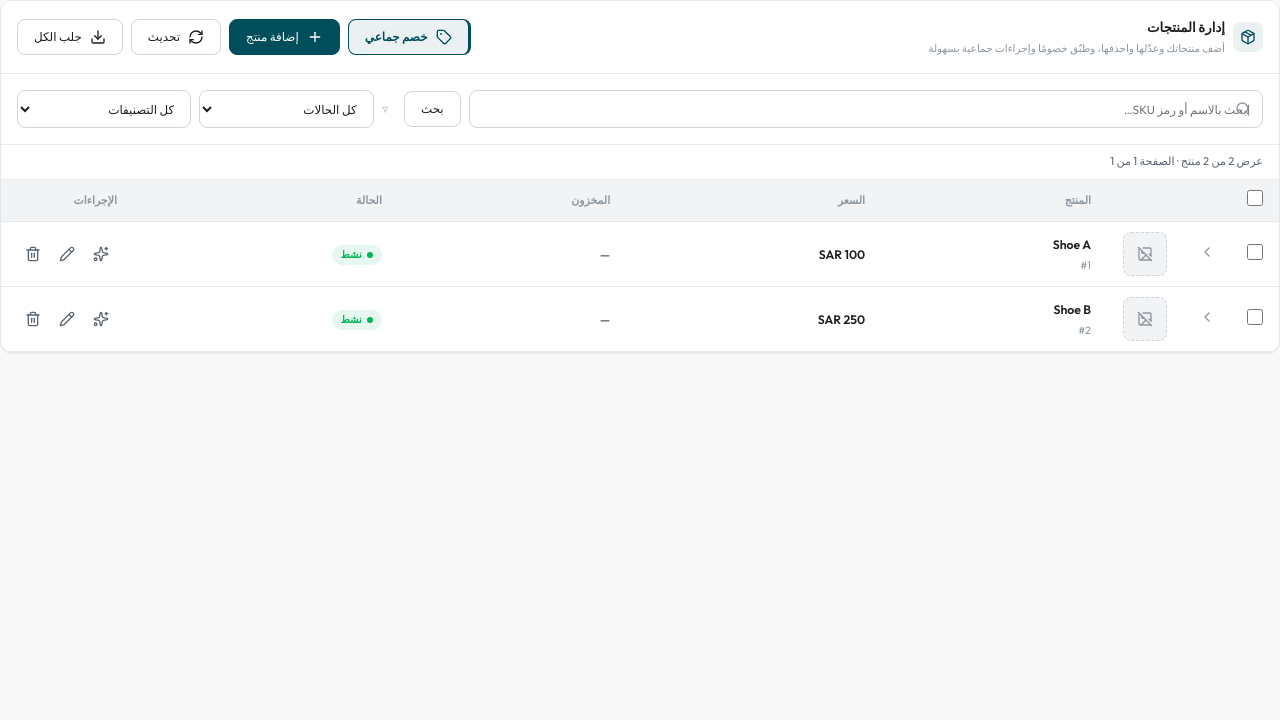
Scenario: Bulk product actions › previews a price change, then submits it for the chosen ids
Click the checkbox named "تحديد Shoe A". click: [1255, 252]
box: [1247,244,1263,260]
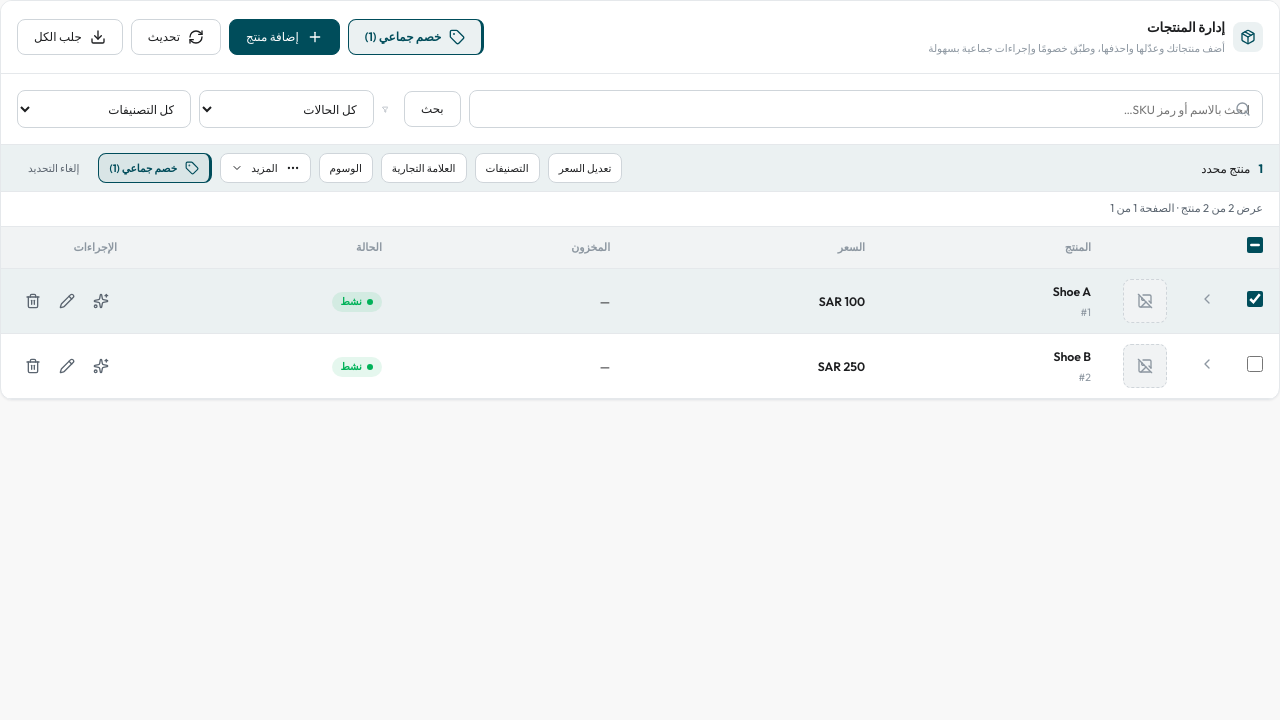
Click the checkbox named "تحديد Shoe B". click: [1255, 364]
box: [1247,356,1263,372]
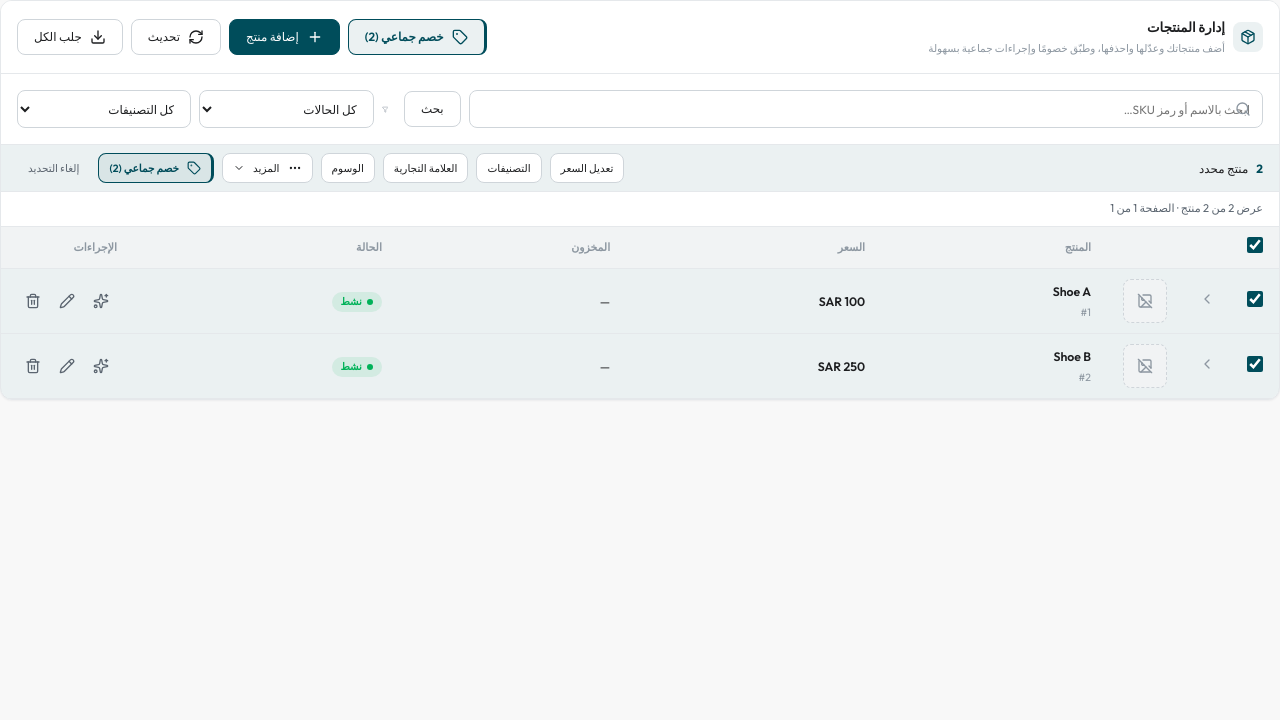
Click the button "تعديل السعر". click: [587, 168]
box: [550,153,624,183]
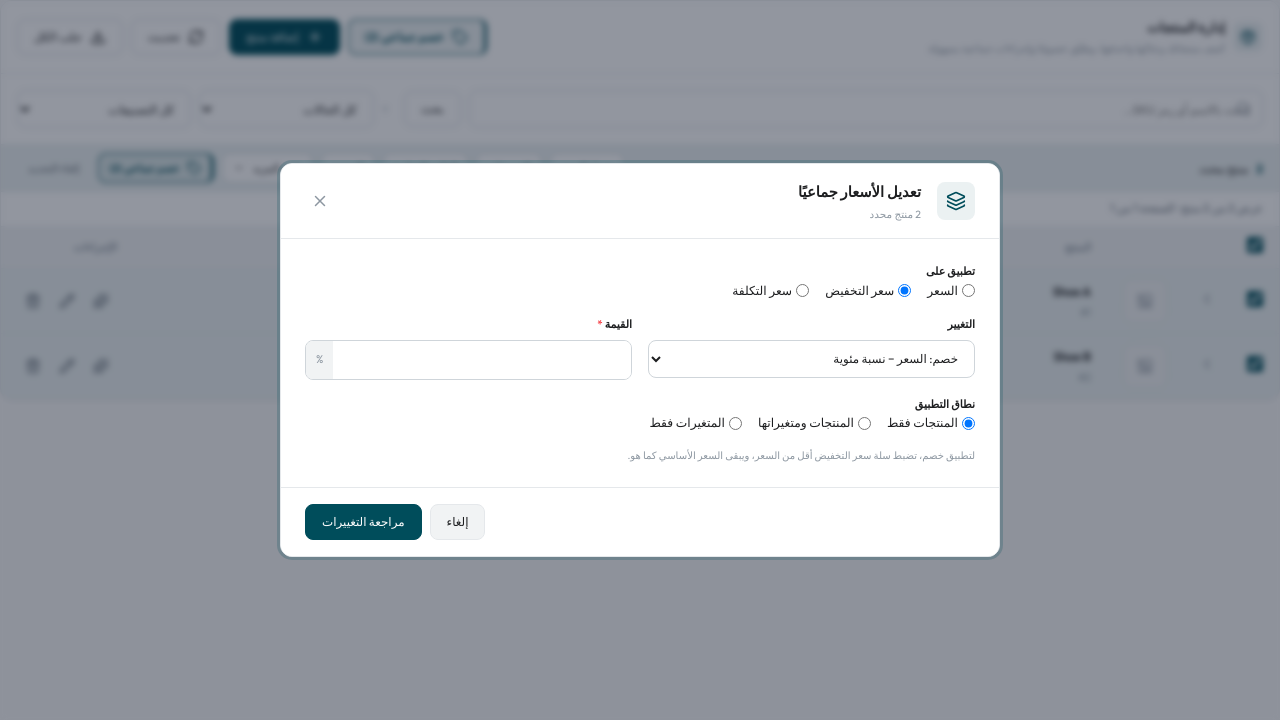
Type "20" into the number field labelled "القيمة*". click: [482, 360]
box: [333,341,631,379]
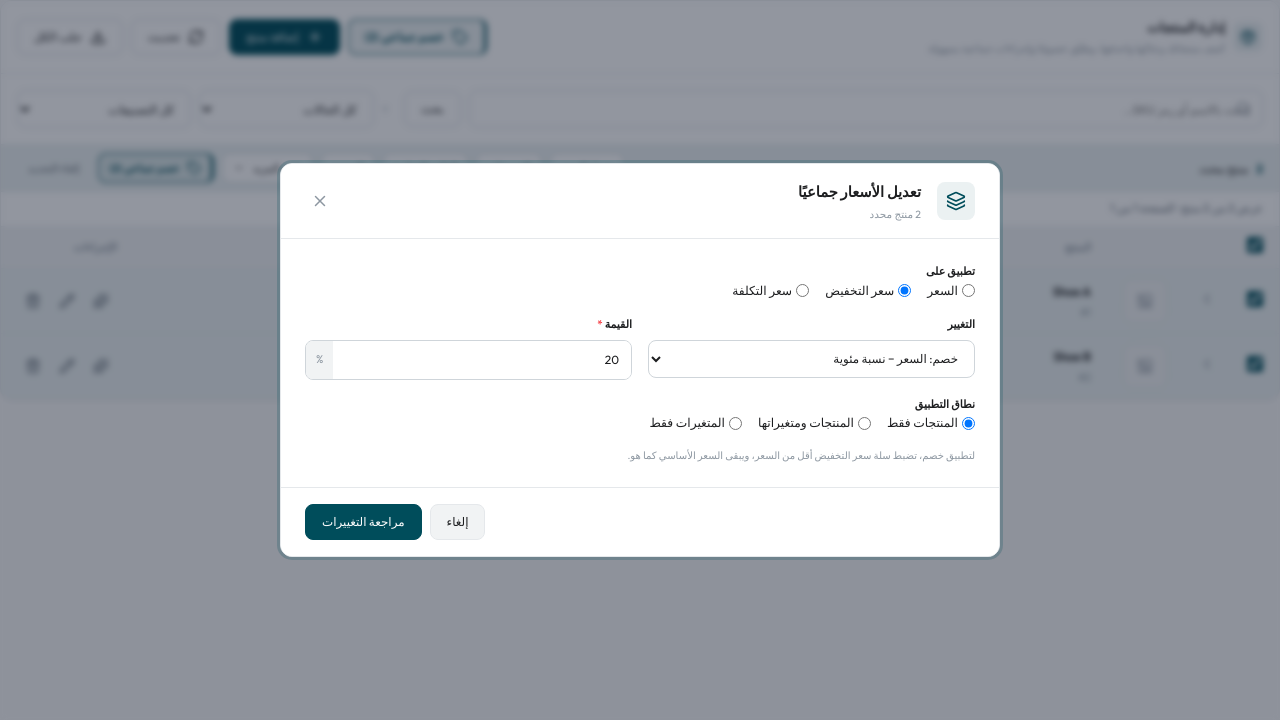
Click the button "مراجعة التغييرات". click: [363, 522]
box: [305,504,422,540]
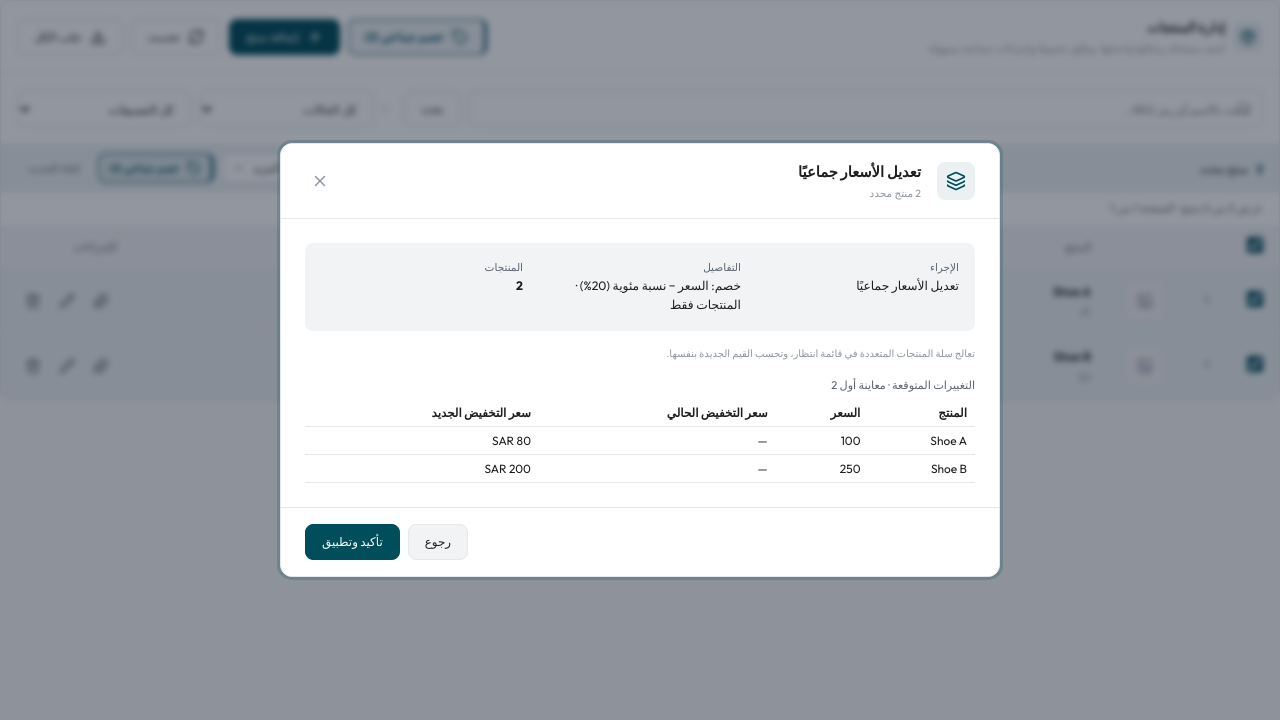
Check: the row "المنتج السعر سعر التخفيض الحالي سعر التخفيض الجديد" is shown, box [305,399,975,427]
Check: the row "Shoe A 100 — 80 SAR" is shown, box [305,427,975,455]
Check: the row "Shoe B 250 — 200 SAR" is shown, box [305,455,975,483]
Click the button "تأكيد وتطبيق". click: [352, 542]
box: [305,524,400,560]
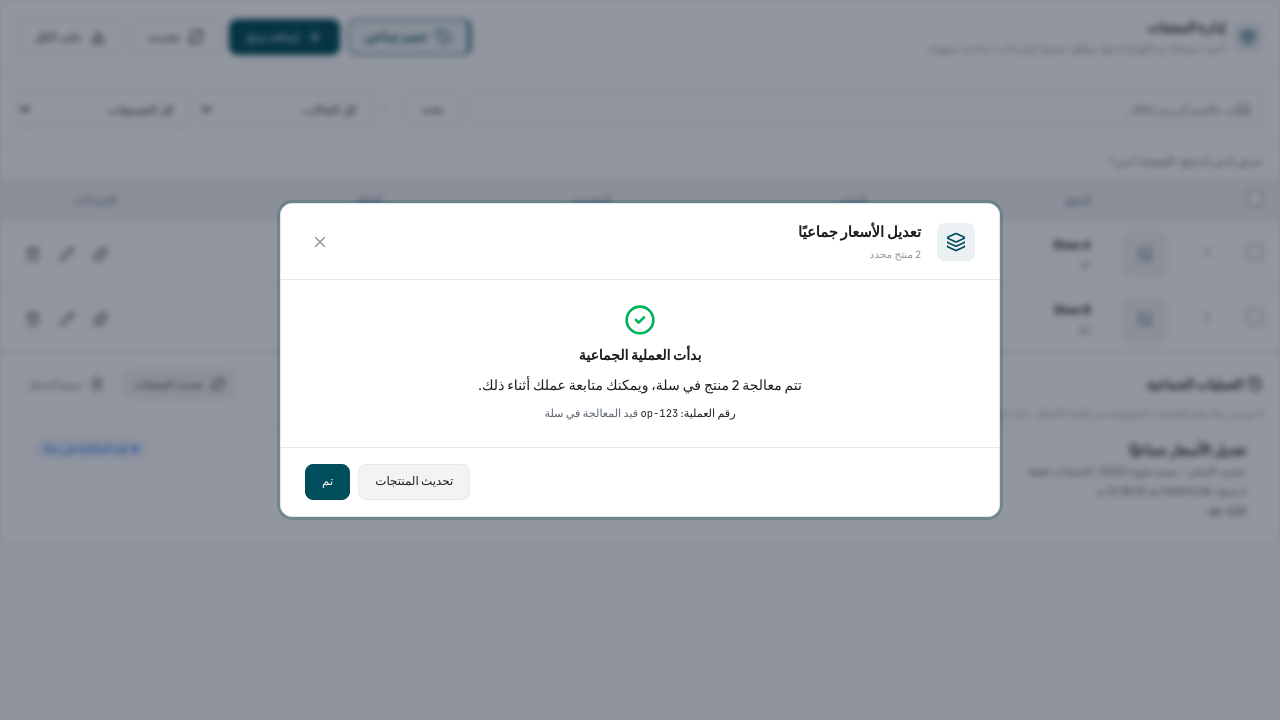
Check: the heading "بدأت العملية الجماعية" is shown, box [579,344,701,366]
Check: the text "op-123" is shown, box [640,406,678,420]
Check: the button "التحديد" is gone
